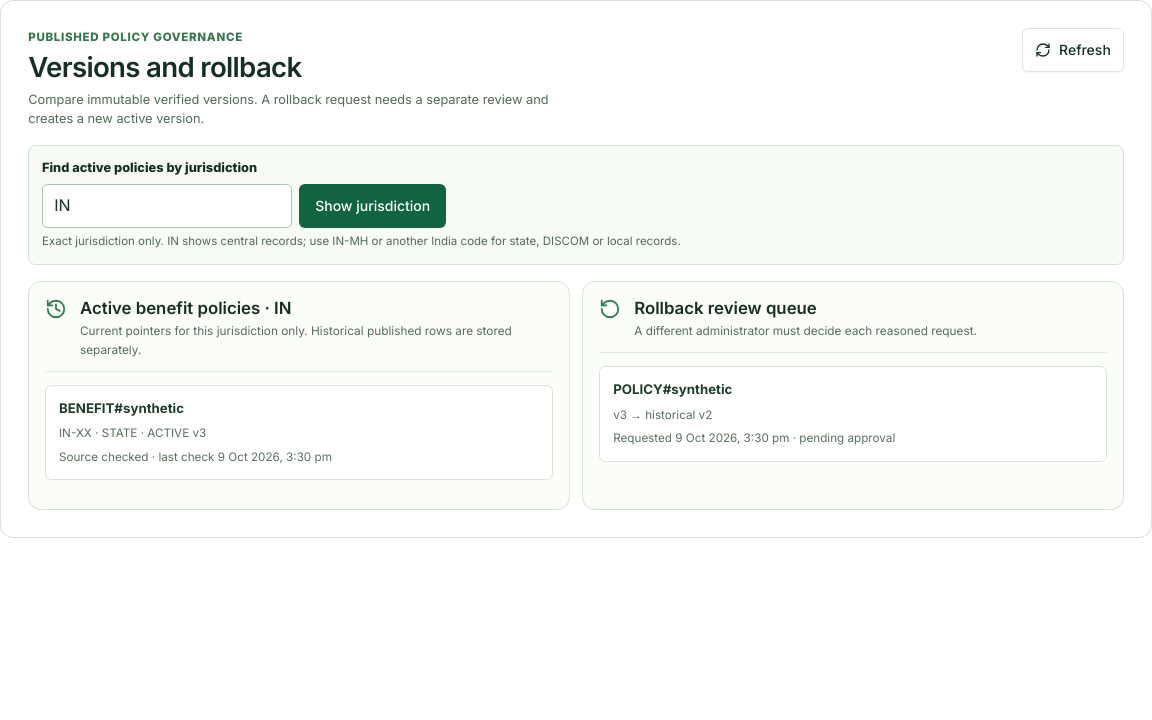
Test: published policy version console › submits a revision-bound rollback request only after comparing verified versions and entering a reason
Click the button "BENEFIT#synthetic". click: point(121, 408)
box: 45,385 -> 553,480
(page scrolled)
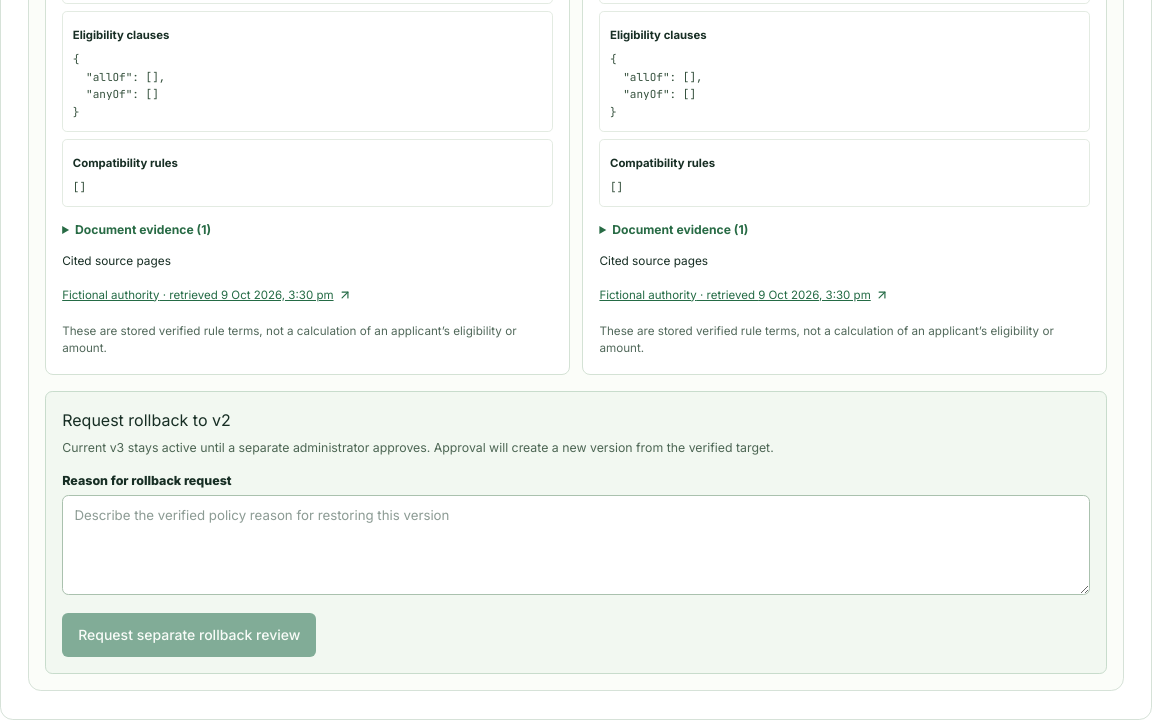
Check: the button "Request separate rollback review" is disabled, box 62,613 -> 316,657
Type "Official archived version should be restored" into the text box labelled "Reason for rollback request". click: point(576, 545)
box: 62,495 -> 1090,595
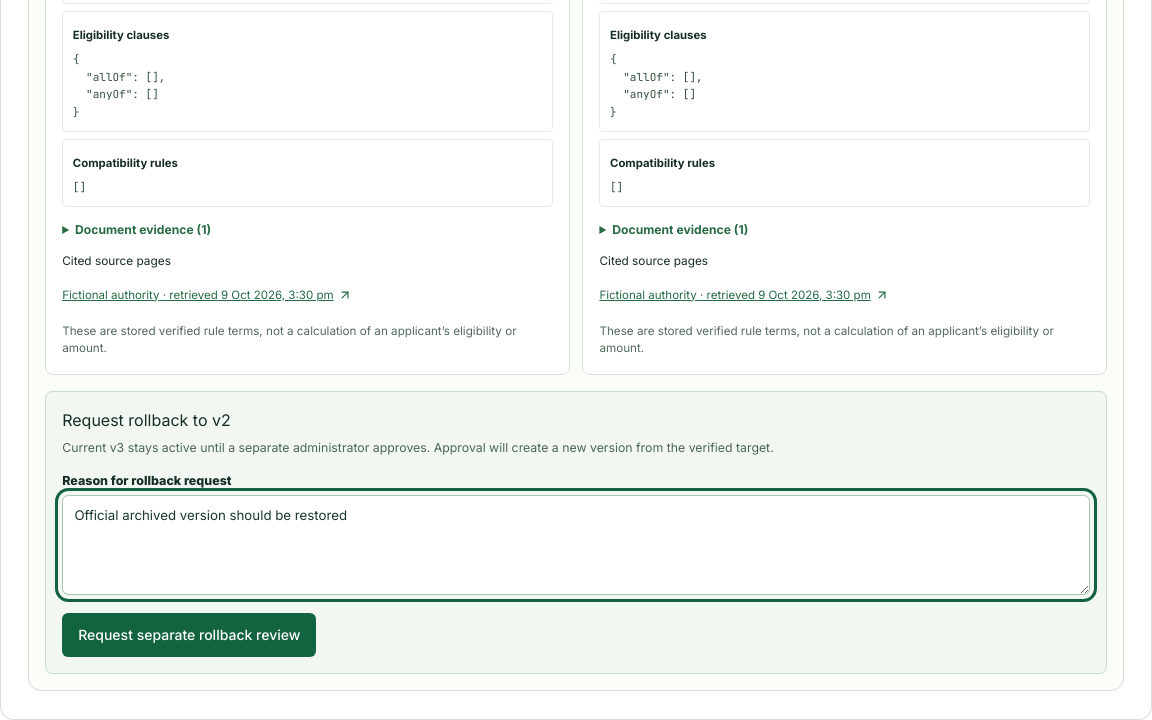
Click the button "Request separate rollback review". click: point(189, 635)
box: 62,613 -> 316,657
(page scrolled)
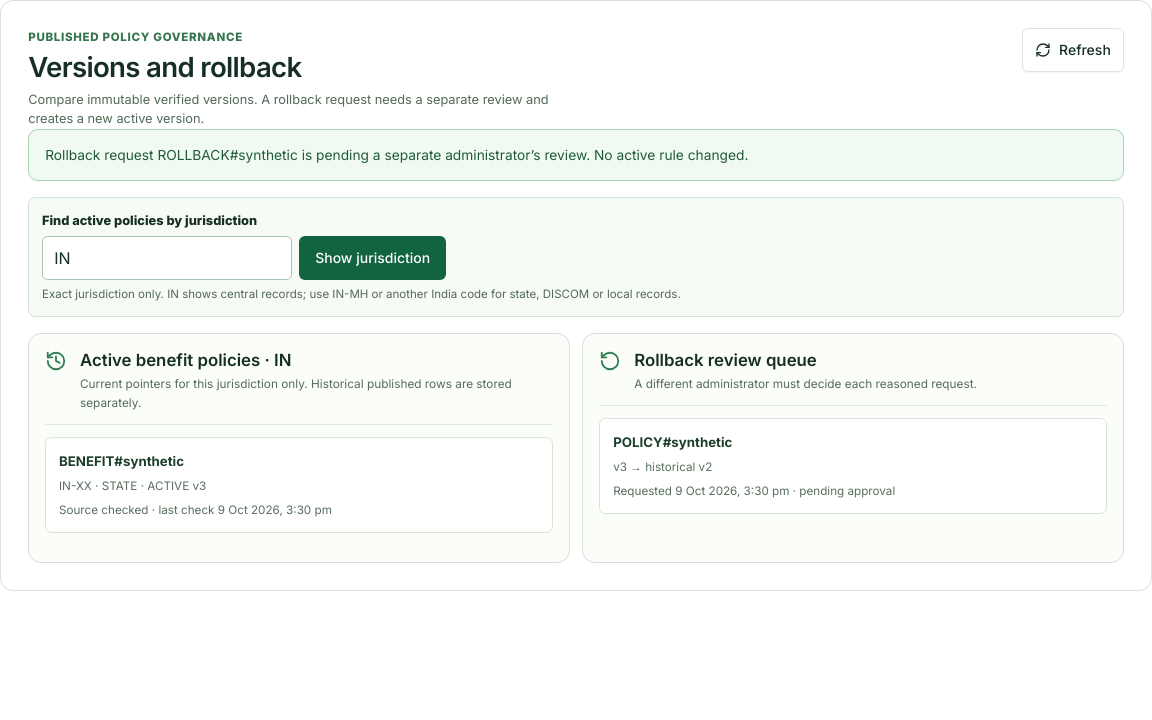
Check: the text "No active rule changed" is shown, box 45,147 -> 748,163
